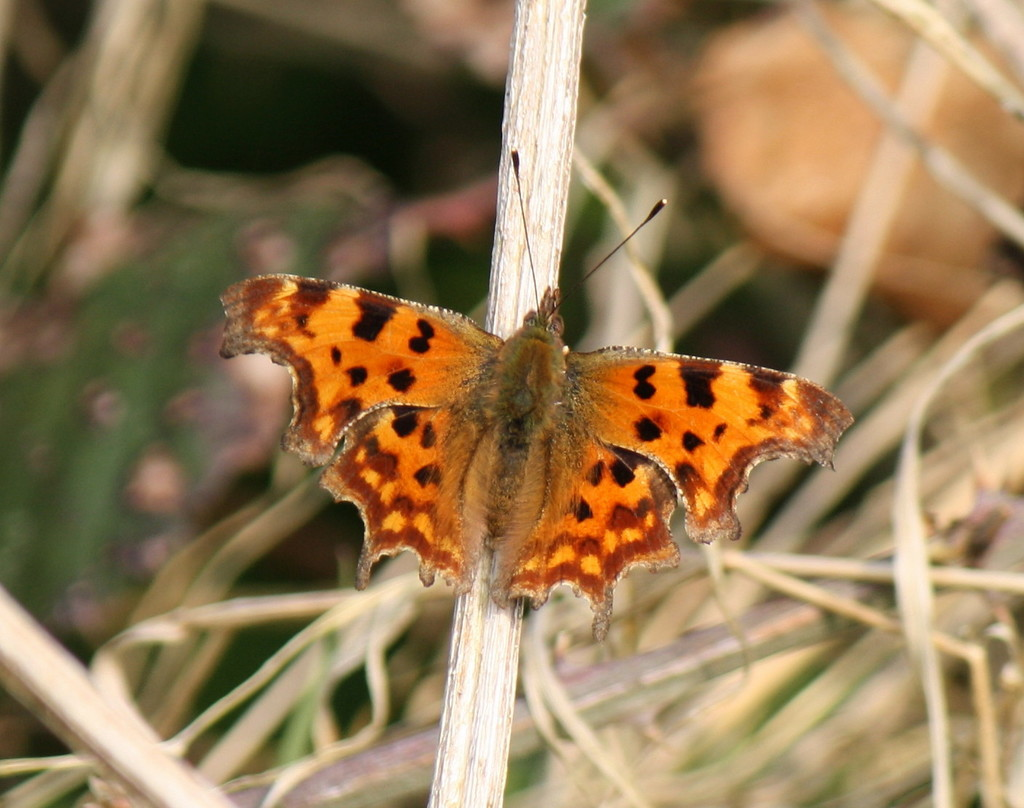Butterfly: (199, 237, 859, 642)
